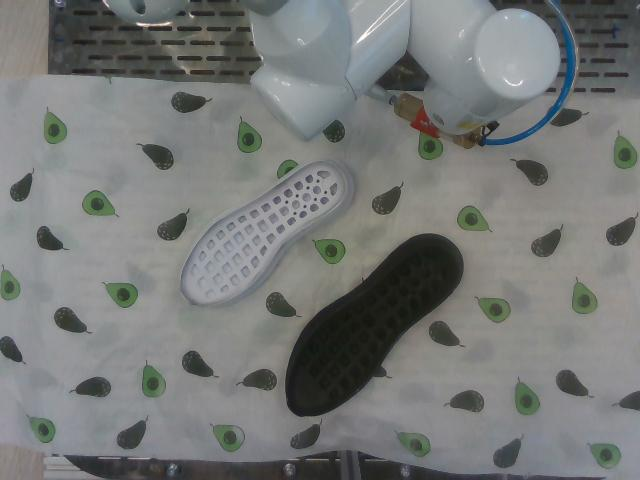shoes: (288, 245, 459, 415), (181, 161, 346, 306)
